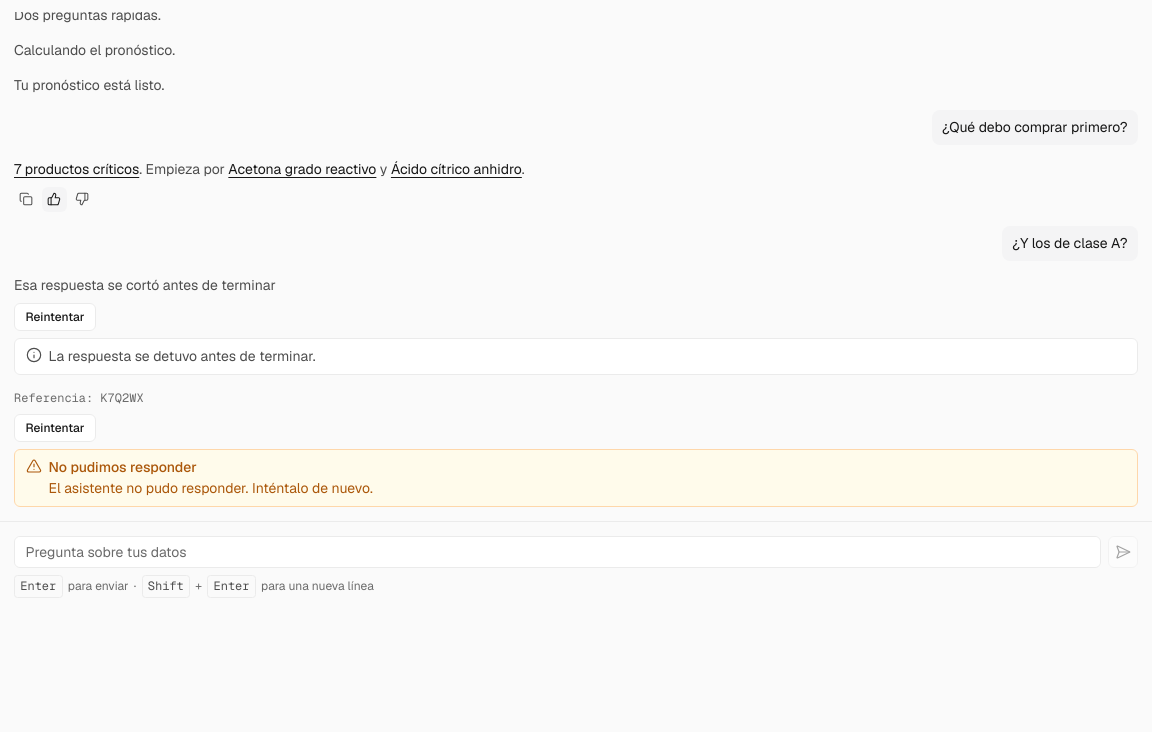
Test case: message actions › toggles like and dislike from the stored rating, persisting each change through the service
(page scrolled)
Click the button named "Respuesta útil": click(54, 199) [42,187,66,212]
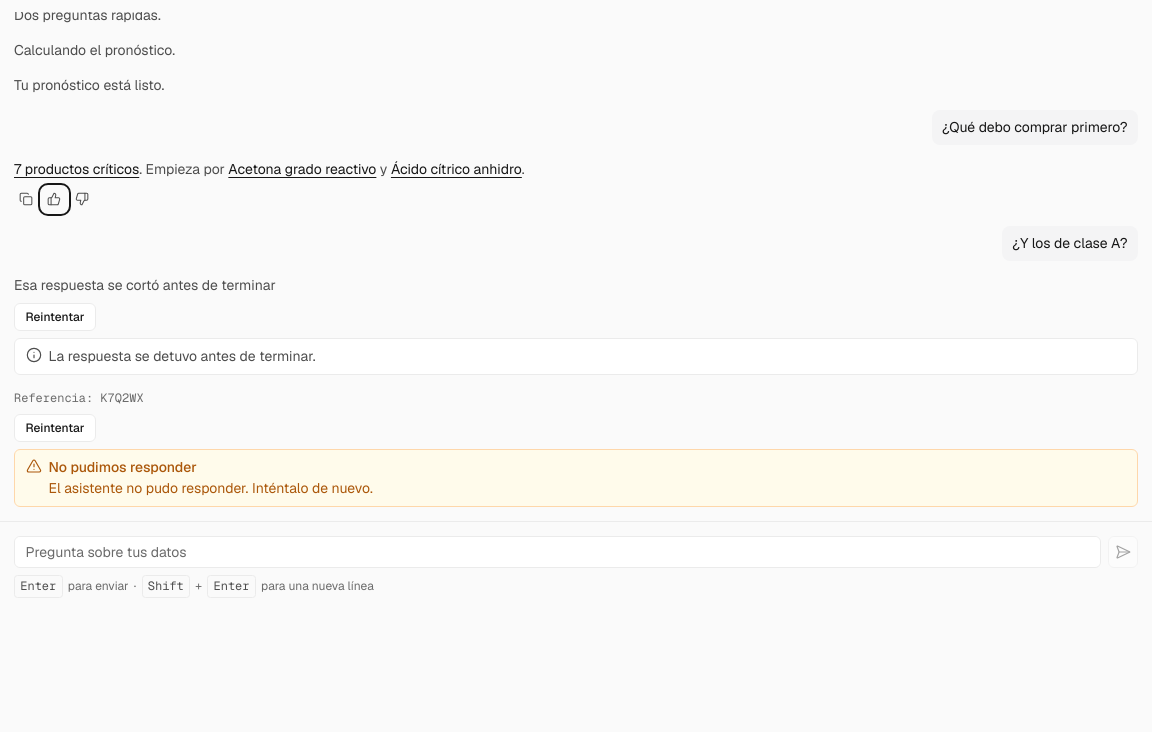
Now the button named "Respuesta útil" is not pressed, box [42,187,66,212]
Click the button named "Respuesta no útil": click(82, 199) [70,187,94,212]
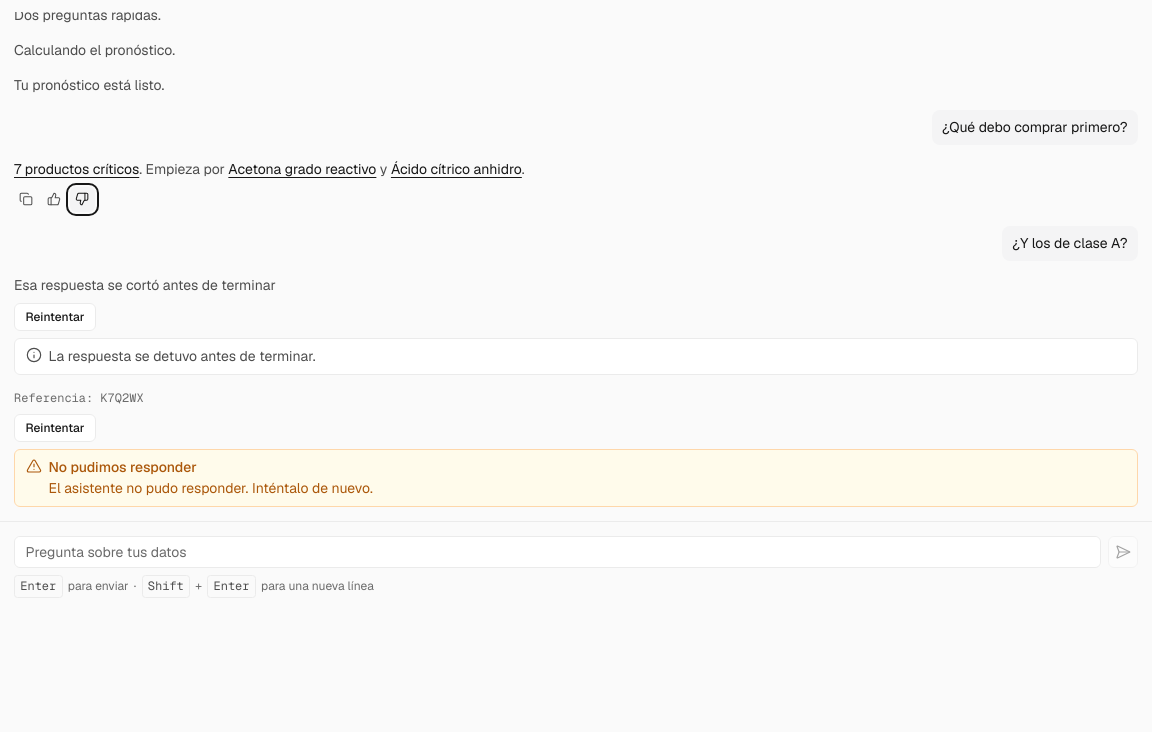
Now the button named "Respuesta no útil" is pressed, box [70,187,94,212]
Click the button named "Respuesta útil": click(54, 199) [42,187,66,212]
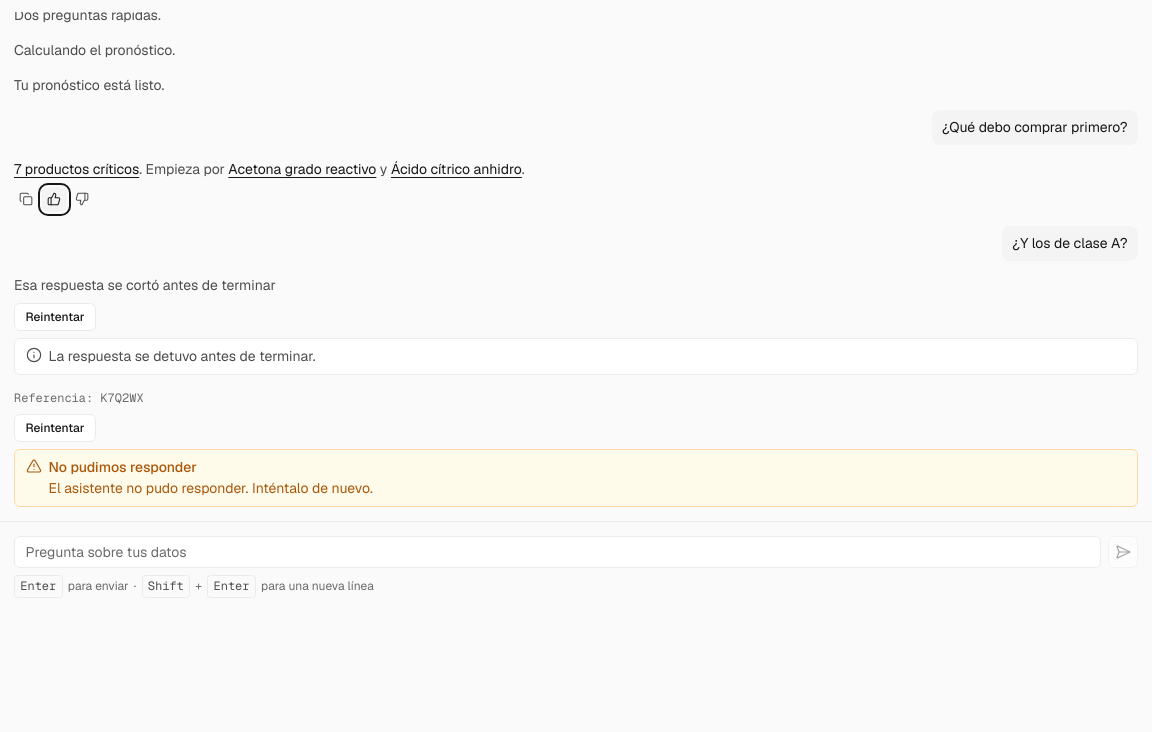
Now the button named "Respuesta útil" is pressed, box [42,187,66,212]
Now the button named "Respuesta no útil" is not pressed, box [70,187,94,212]
